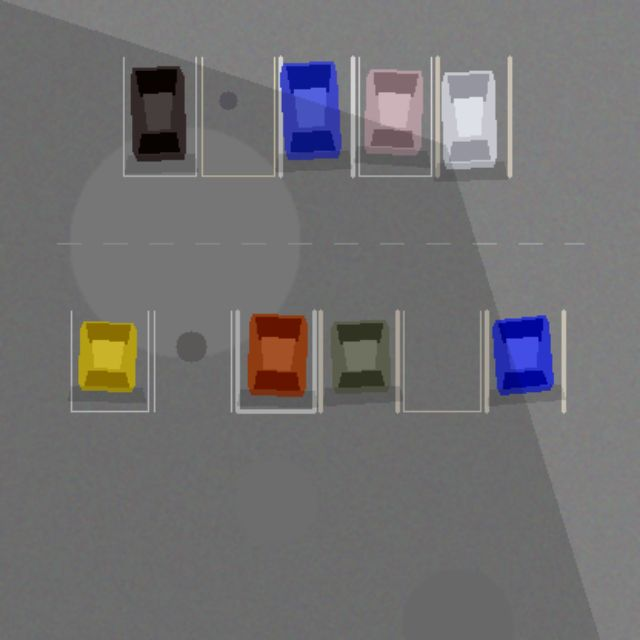space-empty: (202, 57, 274, 175), (154, 311, 231, 411), (403, 311, 480, 411)
space-occupied: (358, 57, 431, 175), (123, 57, 195, 175), (280, 57, 352, 175), (437, 57, 509, 175), (71, 311, 148, 411), (237, 311, 314, 411), (320, 311, 397, 411), (486, 311, 563, 411)
